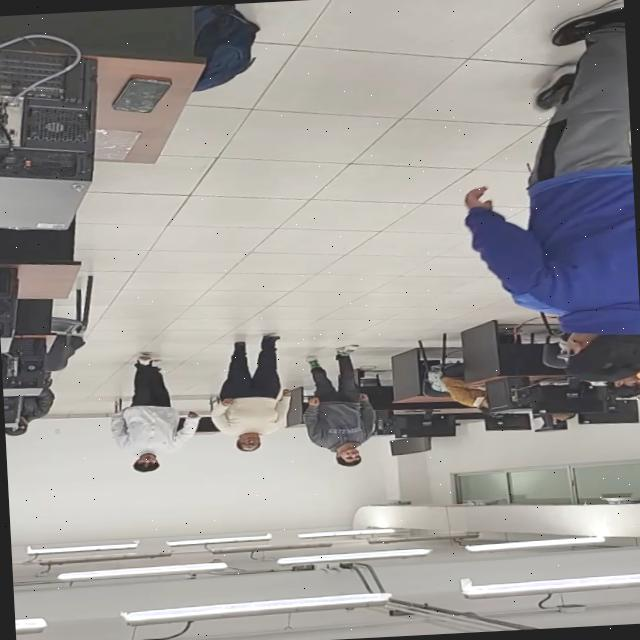Persona: (449, 0, 640, 391), (100, 348, 202, 479), (203, 329, 300, 458), (300, 340, 384, 473)
